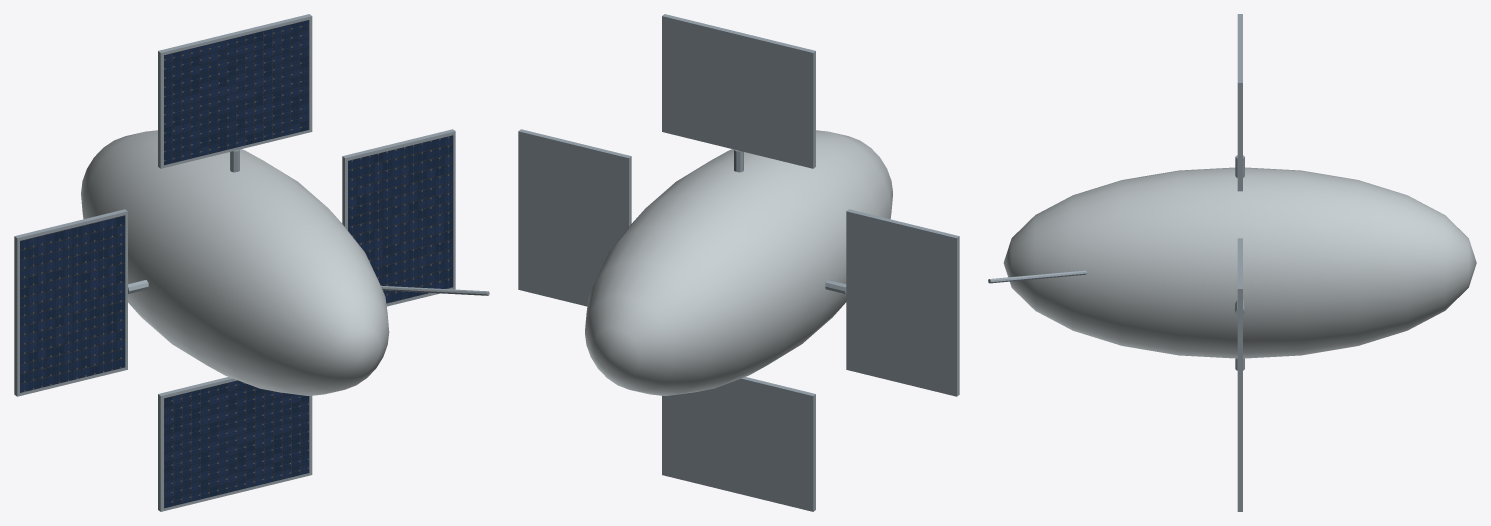
File: ref-gp-b-28230.glb
The picture shows the model from 3 angles, left to right: view 1: azimuth 30°, elevation 25°; view 2: azimuth 150°, elevation 25°; view 3: azimuth 270°, elevation 25°; orthographic projection. The views are drawn at different scales.
Parts seen in each view (by area): view 1: Photovoltaic laminates (×4), Spacecraft body, Array frame (×4), Antenna boom; view 2: Array frame (×4), Spacecraft body; view 3: Spacecraft body, Array frame (×2).
Part boxes in pixels (x1,y1,x2,y2): Photovoltaic laminates (×4): (20,20,453,508); Spacecraft body: (81,130,389,395); Array frame (×4): (14,14,455,511); Antenna boom: (381,285,489,295); Array frame (×4): (518,14,959,511); Spacecraft body: (585,130,892,395); Spacecraft body: (1003,167,1476,358); Array frame (×2): (1237,14,1242,436).
Size of the model in its own units: 6.4 by 6.4 by 6.61.
Materials: 3 (1 with a texture image).
